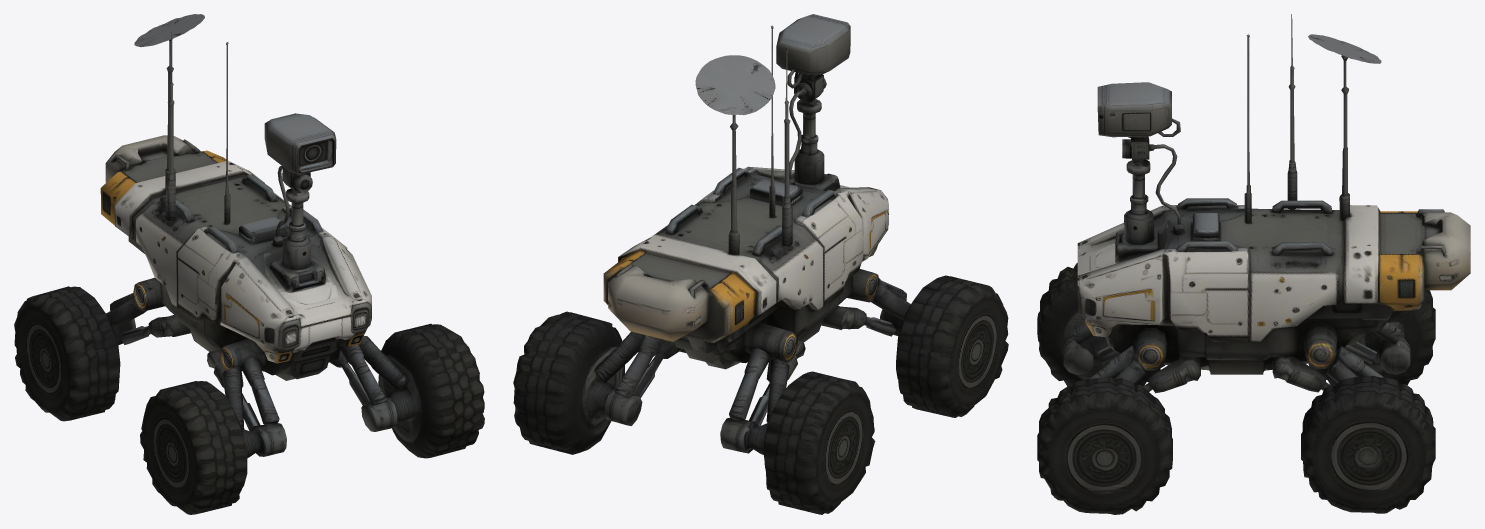
The picture shows the model from 3 angles, left to right: view 1: azimuth 30°, elevation 25°; view 2: azimuth 150°, elevation 25°; view 3: azimuth 270°, elevation 25°; orthographic projection. The views are drawn at different scales.
Parts seen in each view (by area): view 1: tripo_node_ef0c8bd3-2613-43bd-890d-473da3594e16; view 2: tripo_node_ef0c8bd3-2613-43bd-890d-473da3594e16; view 3: tripo_node_ef0c8bd3-2613-43bd-890d-473da3594e16.
Part boxes in pixels (bbox=[...]): tripo_node_ef0c8bd3-2613-43bd-890d-473da3594e16: bbox=[14, 14, 484, 514]; tripo_node_ef0c8bd3-2613-43bd-890d-473da3594e16: bbox=[513, 14, 1008, 514]; tripo_node_ef0c8bd3-2613-43bd-890d-473da3594e16: bbox=[1037, 14, 1470, 514].
Size of the model in its own units: 0.7676 by 0.998 by 0.9668.
1 material, 1 textured.
